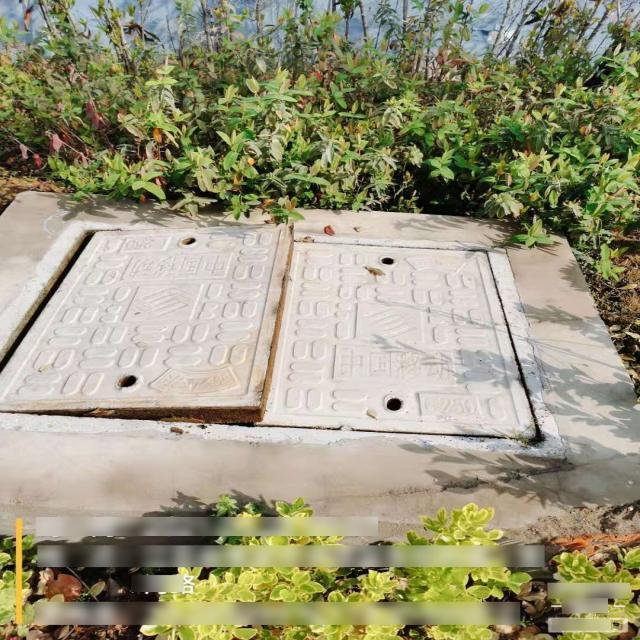Faulty: (1, 220, 567, 456)
